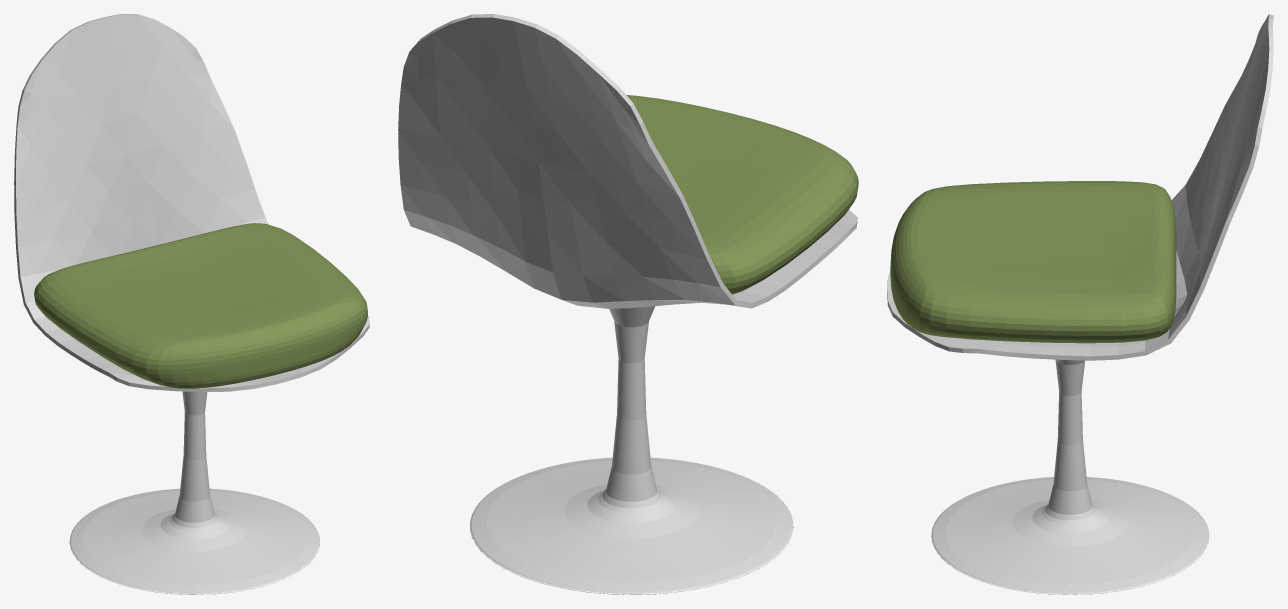
The model's file is sweethome3d-blendswap-cc-0-chair-78.glb.
3 views of the same model, side by side, from view 1: azimuth 30°, elevation 25°; view 2: azimuth 150°, elevation 25°; view 3: azimuth 270°, elevation 25° (orthographic). The views are drawn at different scales.
Parts seen in each view (by area): view 1: Plane, Cube, Plane.001; view 2: Plane, Plane.001, Cube; view 3: Cube, Plane.001, Plane.
Boxes of the visible parts, <box> form: Plane: <box>14,14,369,392</box>; Cube: <box>34,223,367,388</box>; Plane.001: <box>69,391,319,594</box>; Plane: <box>398,14,857,308</box>; Plane.001: <box>470,306,793,594</box>; Cube: <box>626,95,858,294</box>; Cube: <box>890,181,1176,343</box>; Plane.001: <box>931,359,1209,594</box>; Plane: <box>887,14,1273,360</box>.
Bounding box in the file's own units: 50.45 × 85 × 58.38.
